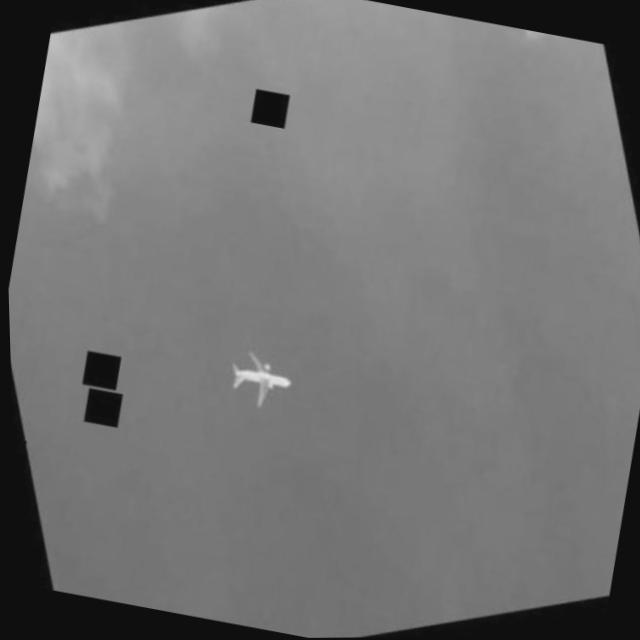aeroplane: (221, 346, 297, 417)
